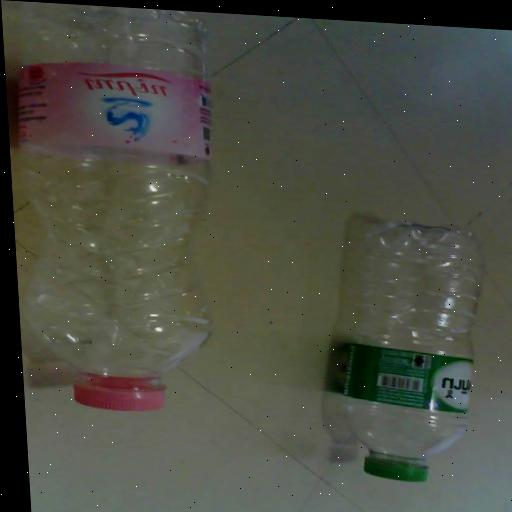bottle: (0, 0, 230, 414), (314, 216, 496, 485)
